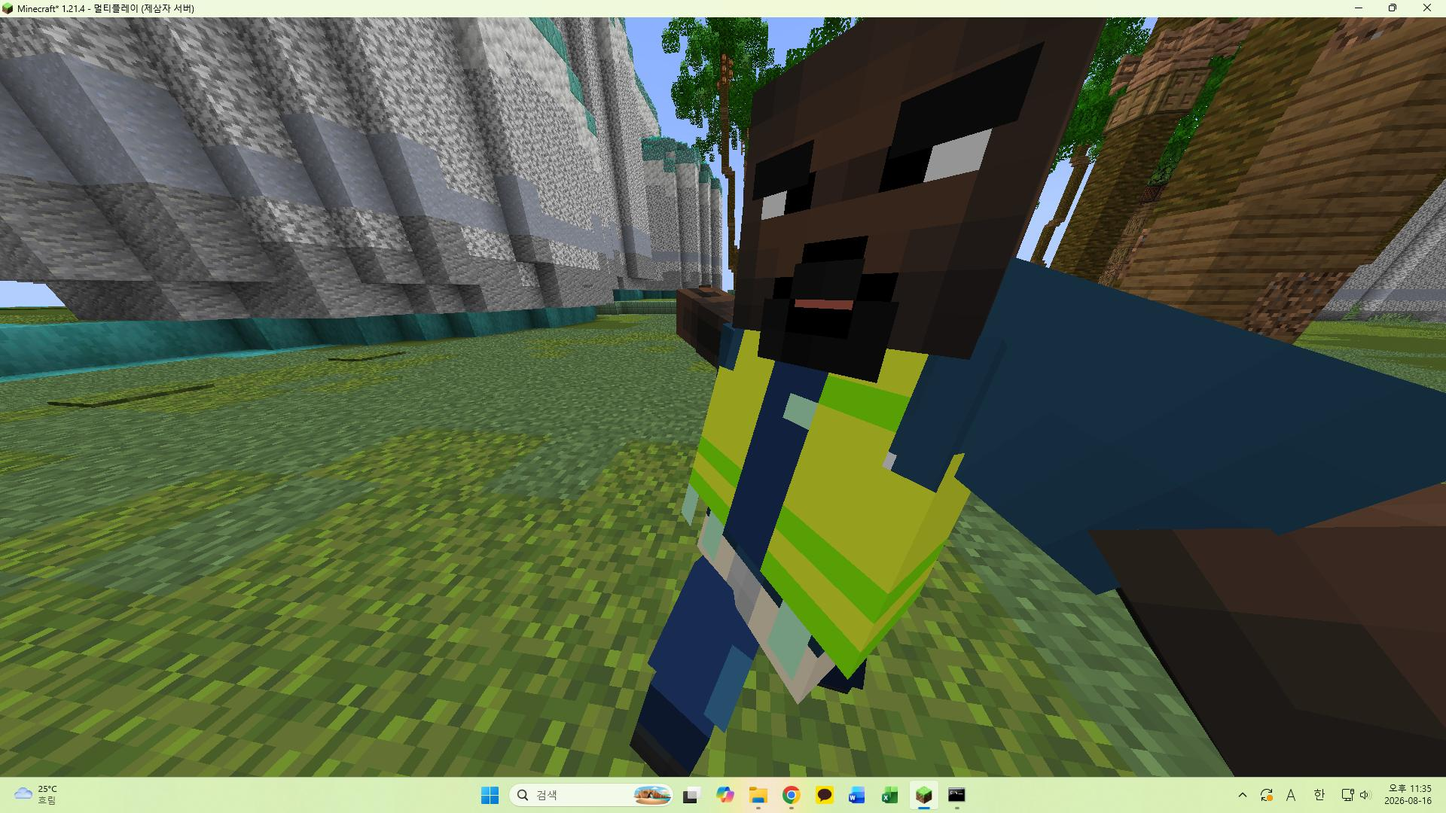Guardian: (632, 18, 1445, 775)
